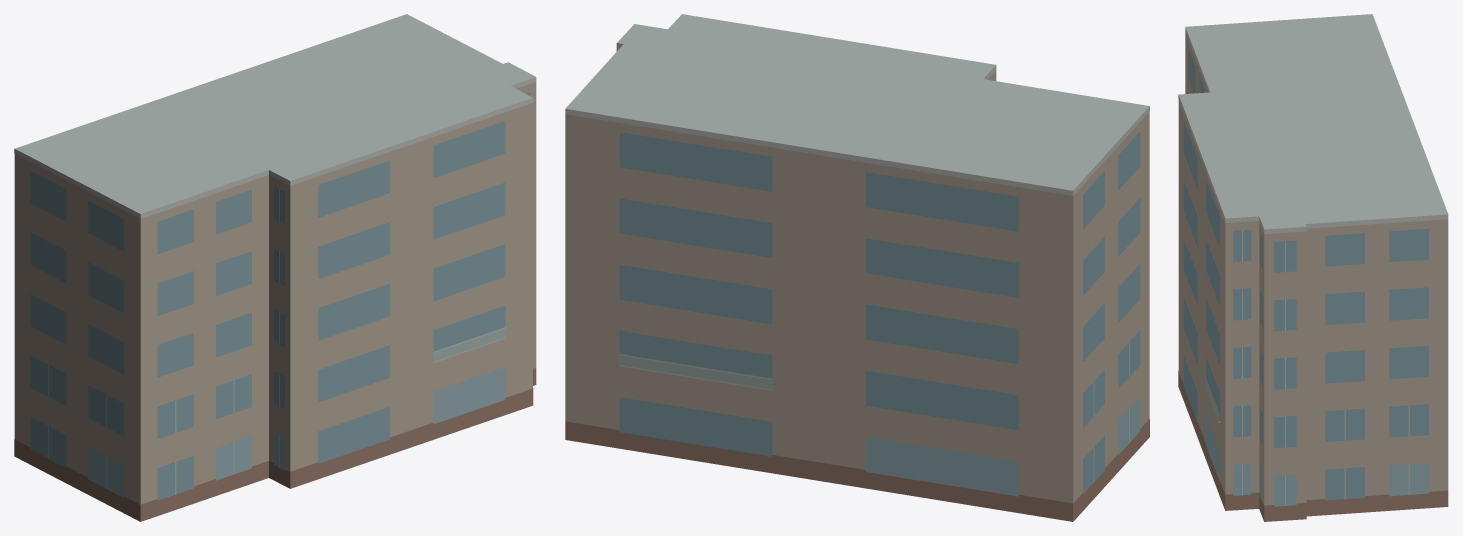
File: survey-upis-32910634.glb
3 renders of one model, left to right at view 1: azimuth 30°, elevation 25°; view 2: azimuth 150°, elevation 25°; view 3: azimuth 270°, elevation 25°, orthographic. The views are drawn at different scales.
Visible parts, largest first — view 1: survey-upis-32910634.tmp; view 2: survey-upis-32910634.tmp; view 3: survey-upis-32910634.tmp.
Part boxes in pixels (x1,y1,x2,y2): survey-upis-32910634.tmp: (14,14,536,521); survey-upis-32910634.tmp: (565,14,1149,521); survey-upis-32910634.tmp: (1178,14,1448,521).
Size of the model in its own units: 24.11 by 15.25 by 12.77.
